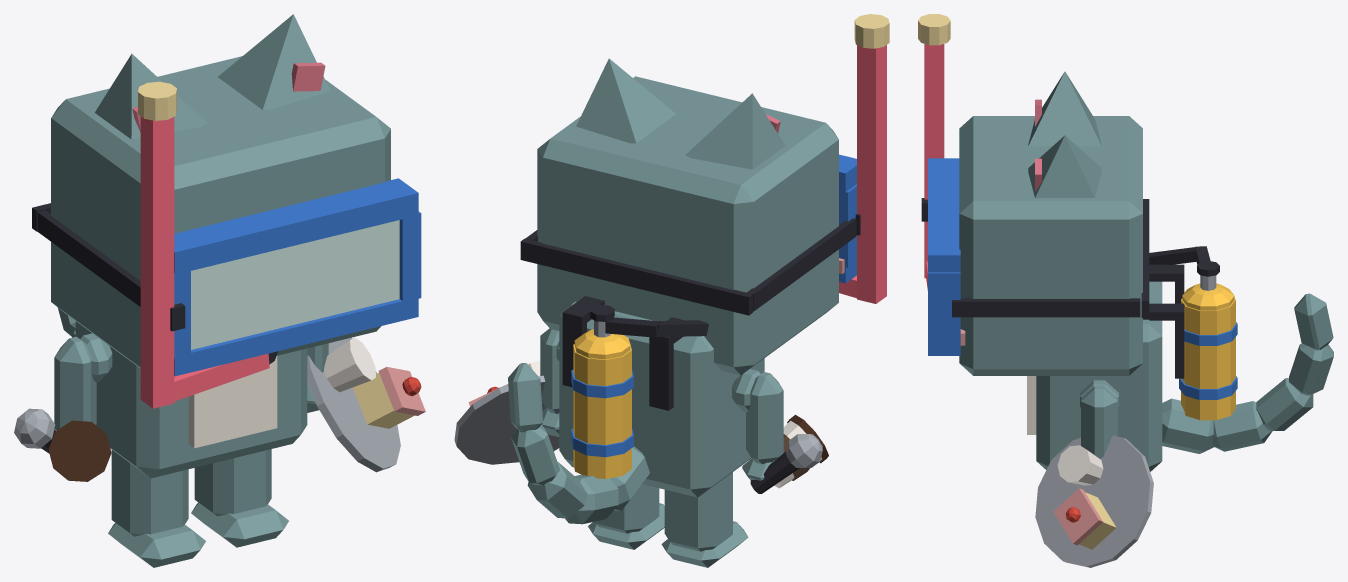
The model's file is CatCafe_Cat_Glimmer_Work.fbx.
The picture shows the model from 3 angles, left to right: view 1: azimuth 30°, elevation 25°; view 2: azimuth 150°, elevation 25°; view 3: azimuth 270°, elevation 25°; orthographic projection. The views are drawn at different scales.
Visible parts, largest first — view 1: CatCafe_Cat_Glimmer_Work_Head, CatCafe_Cat_Glimmer_Work_Prop, CatCafe_Cat_Glimmer_Work_Body, CatCafe_Cat_Glimmer_Work_Prop_Glass, CatCafe_Cat_Glimmer_Work_Held_Waiter, CatCafe_Cat_Glimmer_Work_LegB2, CatCafe_Cat_Glimmer_Work_LegB1, CatCafe_Cat_Glimmer_Work_EarL, CatCafe_Cat_Glimmer_Work_LegF2, CatCafe_Cat_Glimmer_Work_EarR, CatCafe_Cat_Glimmer_Work_Held_Barista, CatCafe_Cat_Glimmer_Work_Held_Entertainer (+1 smaller); view 2: CatCafe_Cat_Glimmer_Work_Head, CatCafe_Cat_Glimmer_Work_Prop, CatCafe_Cat_Glimmer_Work_Body, CatCafe_Cat_Glimmer_Work_Prop2, CatCafe_Cat_Glimmer_Work_Tail, CatCafe_Cat_Glimmer_Work_LegB2, CatCafe_Cat_Glimmer_Work_EarL, CatCafe_Cat_Glimmer_Work_EarR, CatCafe_Cat_Glimmer_Work_Held_Waiter, CatCafe_Cat_Glimmer_Work_LegF2, CatCafe_Cat_Glimmer_Work_LegB1, CatCafe_Cat_Glimmer_Work_Held_Entertainer (+2 smaller); view 3: CatCafe_Cat_Glimmer_Work_Head, CatCafe_Cat_Glimmer_Work_Prop, CatCafe_Cat_Glimmer_Work_Held_Waiter, CatCafe_Cat_Glimmer_Work_Prop2, CatCafe_Cat_Glimmer_Work_Body, CatCafe_Cat_Glimmer_Work_Tail, CatCafe_Cat_Glimmer_Work_EarR, CatCafe_Cat_Glimmer_Work_EarL, CatCafe_Cat_Glimmer_Work_LegF1.
Part boxes in pixels (x1,y1,x2,y2): CatCafe_Cat_Glimmer_Work_Head: (51, 56, 390, 368); CatCafe_Cat_Glimmer_Work_Prop: (32, 81, 421, 408); CatCafe_Cat_Glimmer_Work_Body: (75, 321, 307, 478); CatCafe_Cat_Glimmer_Work_Prop_Glass: (191, 220, 399, 349); CatCafe_Cat_Glimmer_Work_Held_Waiter: (307, 337, 425, 472); CatCafe_Cat_Glimmer_Work_LegB2: (108, 450, 205, 567); CatCafe_Cat_Glimmer_Work_LegB1: (191, 449, 288, 547); CatCafe_Cat_Glimmer_Work_EarL: (218, 14, 330, 109); CatCafe_Cat_Glimmer_Work_LegF2: (54, 336, 96, 430); CatCafe_Cat_Glimmer_Work_EarR: (95, 53, 207, 139); CatCafe_Cat_Glimmer_Work_Held_Barista: (48, 420, 111, 481); CatCafe_Cat_Glimmer_Work_Held_Entertainer: (14, 408, 55, 453); CatCafe_Cat_Glimmer_Work_Head: (537, 76, 844, 375); CatCafe_Cat_Glimmer_Work_Prop: (520, 14, 889, 315); CatCafe_Cat_Glimmer_Work_Body: (556, 301, 764, 497); CatCafe_Cat_Glimmer_Work_Prop2: (562, 296, 708, 478); CatCafe_Cat_Glimmer_Work_Tail: (508, 363, 649, 524); CatCafe_Cat_Glimmer_Work_LegB2: (661, 472, 748, 567); CatCafe_Cat_Glimmer_Work_EarL: (576, 58, 675, 143); CatCafe_Cat_Glimmer_Work_EarR: (685, 93, 785, 169); CatCafe_Cat_Glimmer_Work_Held_Waiter: (454, 360, 559, 464); CatCafe_Cat_Glimmer_Work_LegF2: (742, 372, 783, 480); CatCafe_Cat_Glimmer_Work_LegB1: (588, 484, 664, 549); CatCafe_Cat_Glimmer_Work_Held_Entertainer: (750, 434, 822, 493); CatCafe_Cat_Glimmer_Work_Head: (959, 116, 1142, 375); CatCafe_Cat_Glimmer_Work_Prop: (918, 14, 1149, 355); CatCafe_Cat_Glimmer_Work_Held_Waiter: (1035, 435, 1153, 567); CatCafe_Cat_Glimmer_Work_Prop2: (1143, 246, 1237, 420); CatCafe_Cat_Glimmer_Work_Body: (1027, 281, 1162, 471); CatCafe_Cat_Glimmer_Work_Tail: (1162, 293, 1333, 453); CatCafe_Cat_Glimmer_Work_EarR: (1028, 71, 1101, 146); CatCafe_Cat_Glimmer_Work_EarL: (1028, 135, 1101, 197); CatCafe_Cat_Glimmer_Work_LegF1: (1081, 386, 1117, 458).
Bounding box in the file's own units: 1.53 × 2.06 × 1.72.
Materials: 1 (1 with a texture image).
